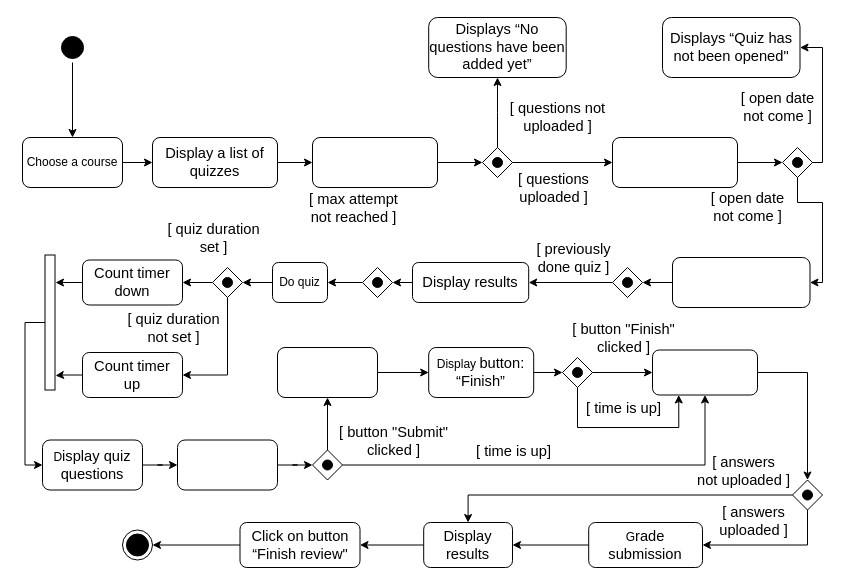
This 848x585 diagram has some shape labels left out. Here are the shapes that lost their labels. From the top down, the centre of each, then its label:
At [375,162]: "Choose a quiz to take".
At [675,162]: "Check quiz open date".
At [741,282]: "Checks if previously done quiz".
At [327,372]: "Display answer sheet.".
At [705,372]: "Saves answers".
At [227,464]: "Choose answer".
